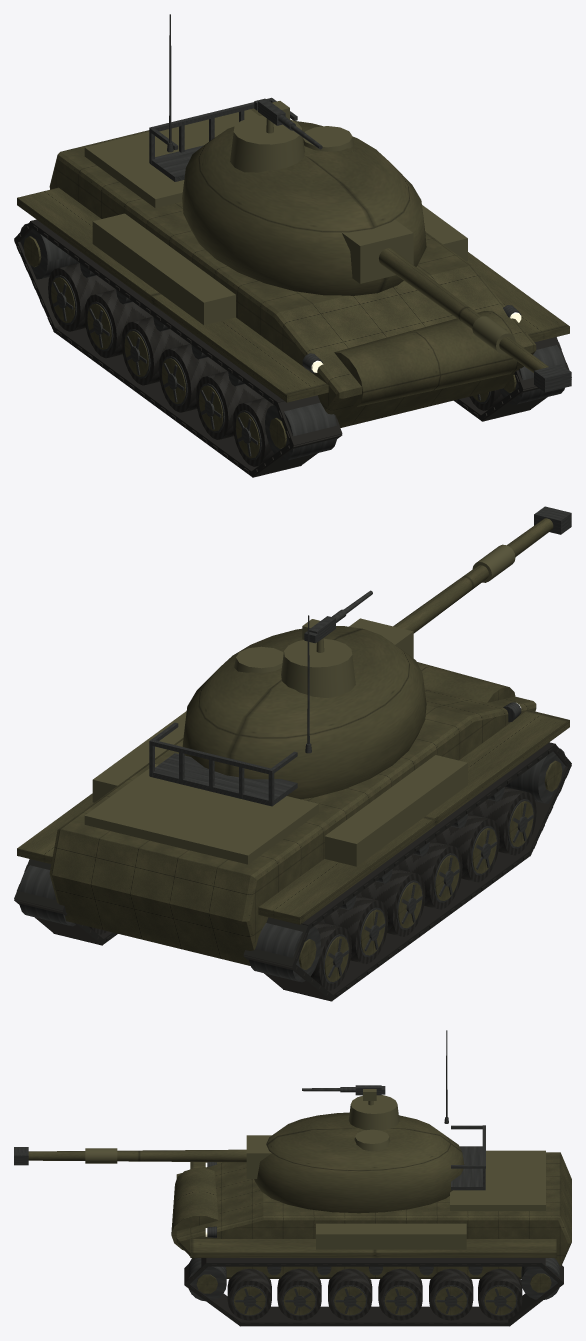
Rendered from m48a3_patton_lod0.glb.
The picture shows the model from 3 angles, top to bottom: view 1: azimuth 30°, elevation 25°; view 2: azimuth 150°, elevation 25°; view 3: azimuth 270°, elevation 25°; orthographic projection. The views are drawn at different scales.
Visible parts, largest first — view 1: M48A3_Patton_MBT; view 2: M48A3_Patton_MBT; view 3: M48A3_Patton_MBT.
Part boxes in pixels (left/top/right/bottom): M48A3_Patton_MBT: left=14, top=14, right=571, bottom=477; M48A3_Patton_MBT: left=14, top=506, right=571, bottom=1001; M48A3_Patton_MBT: left=14, top=1030, right=571, bottom=1326.
Bounding box in the file's own units: 3.6 × 4.07 × 9.06.
Materials: 6 (3 with a texture image).
